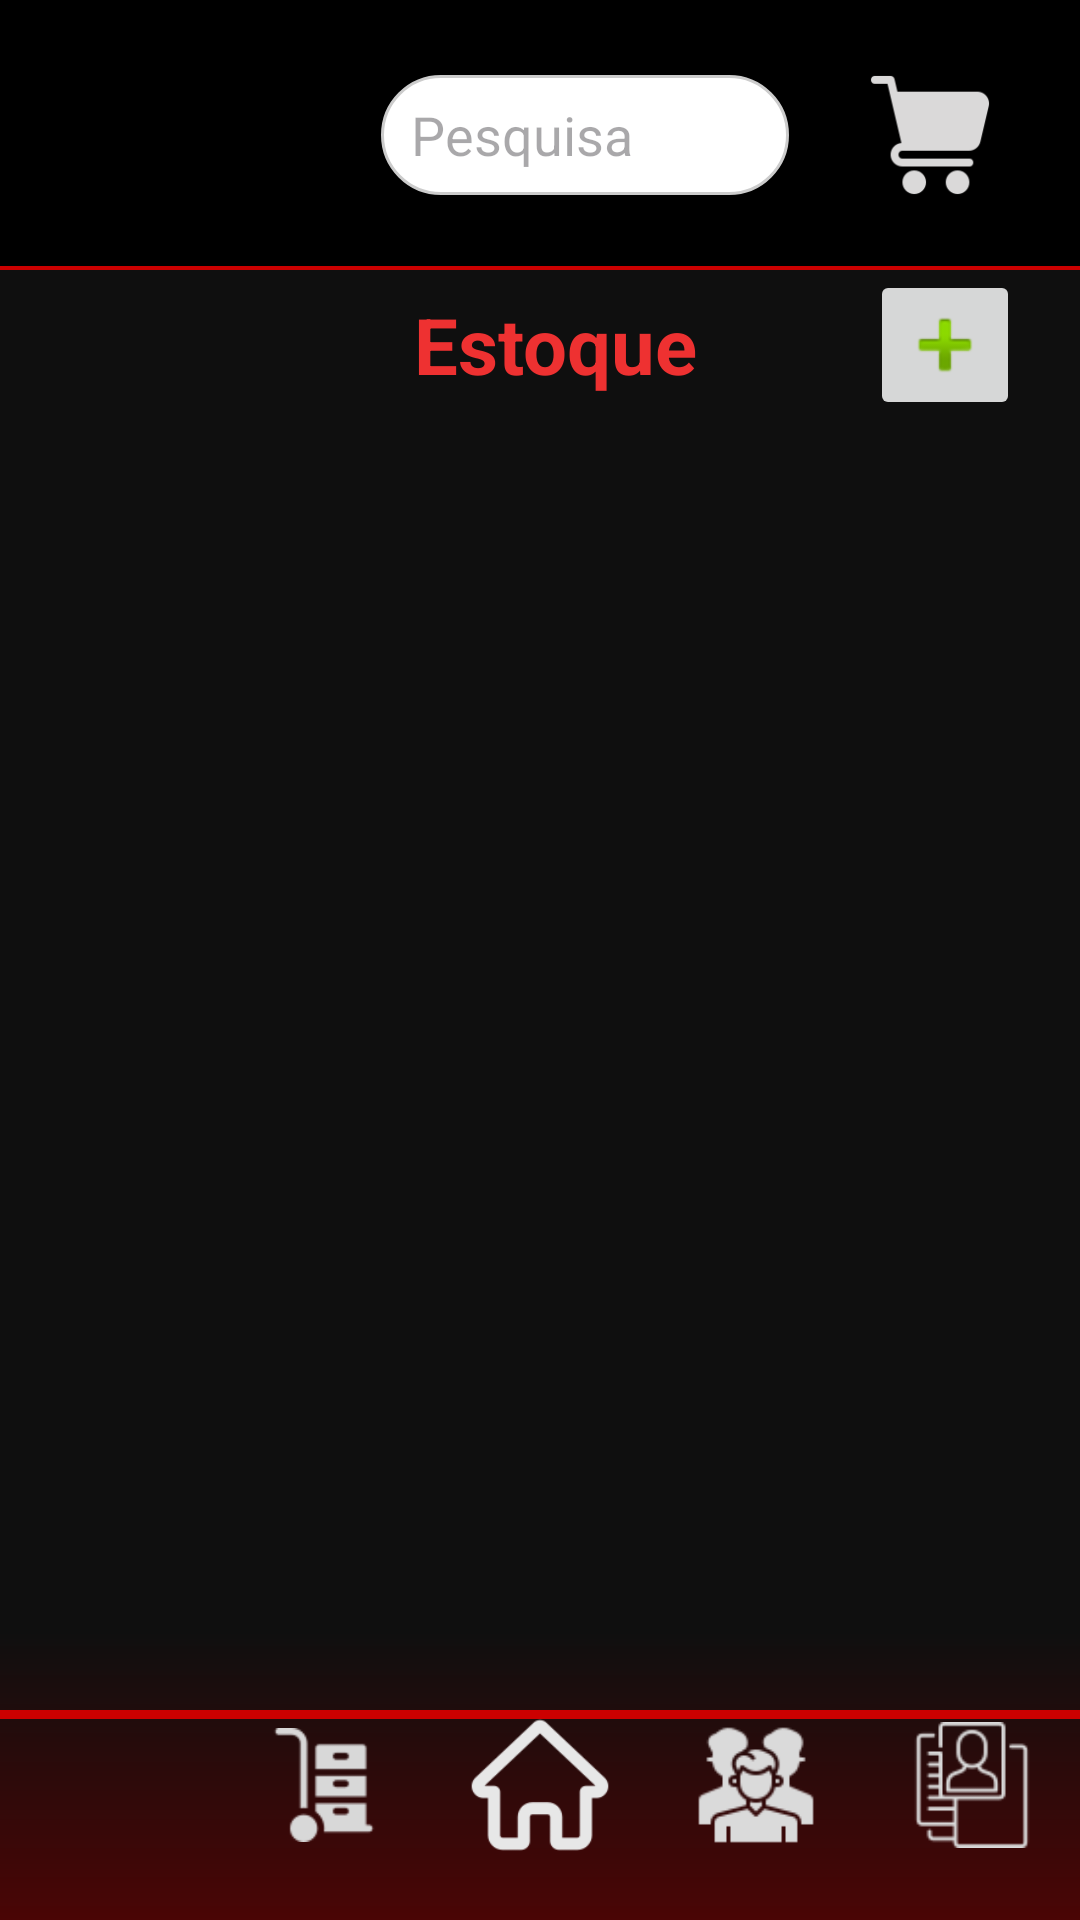

Point at icon controls on the screen. Image size 1080 x 1920, points as (x,y).
Adicionar: (945,345)
